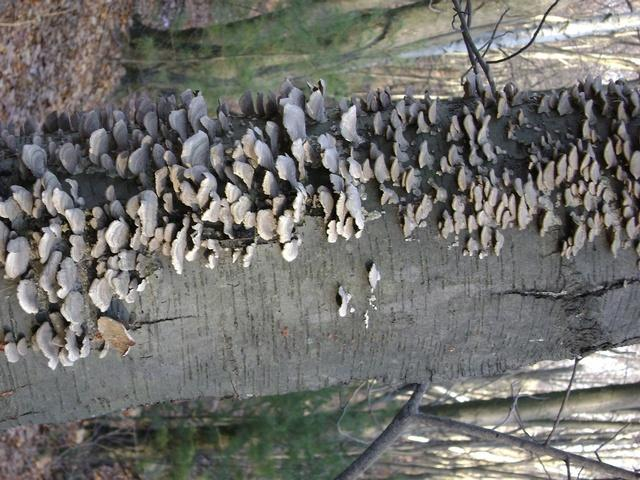Non-edible Mushroom: (1, 71, 638, 370)
